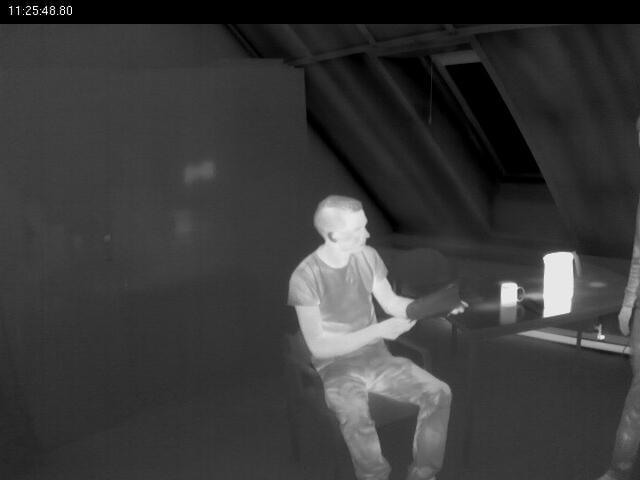person: (287, 191, 464, 480)
